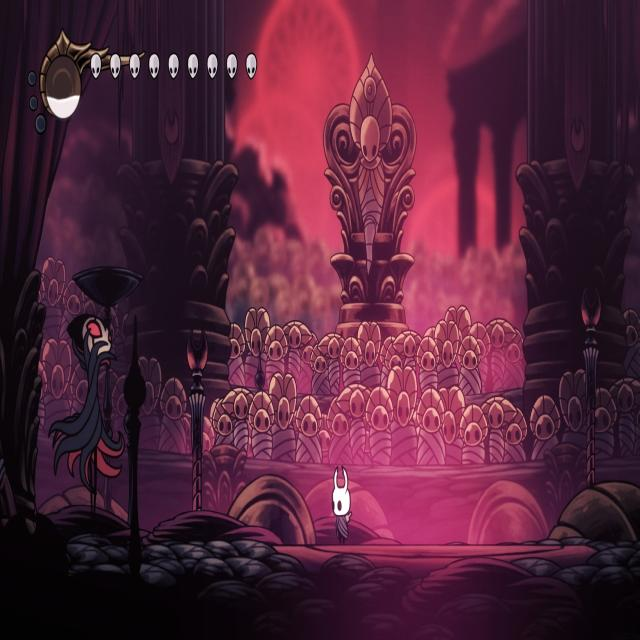Grimm: (46, 309, 124, 537)
Player: (331, 462, 355, 548)
